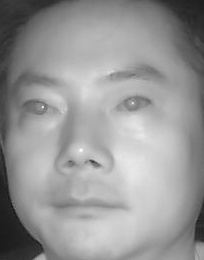eye: (19, 92, 61, 123), (112, 92, 154, 121)
mouth: (49, 184, 126, 228)
